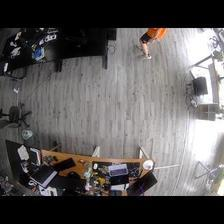fall: (134, 28, 168, 59)
